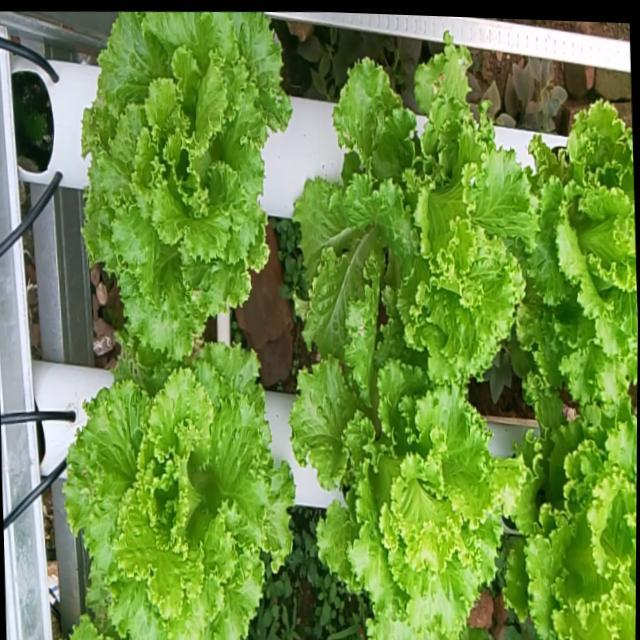Mature: (298, 38, 542, 376), (87, 11, 296, 359), (296, 331, 521, 640), (70, 340, 301, 640), (525, 91, 638, 396), (511, 392, 637, 640)
